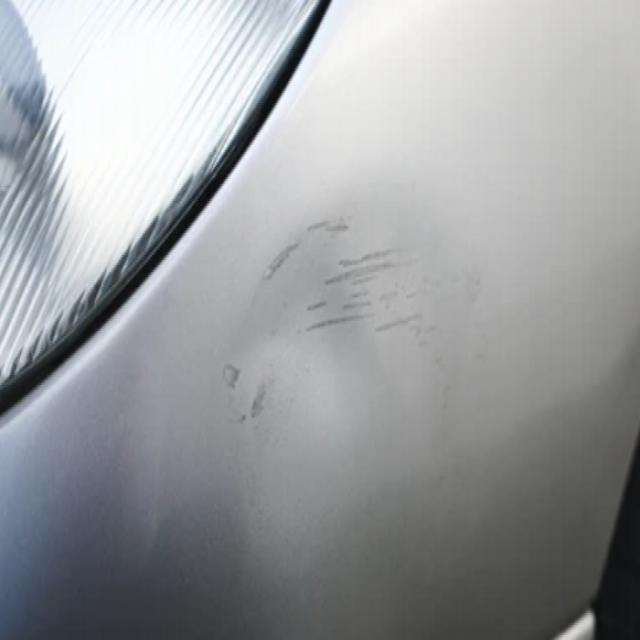dents: (234, 244, 388, 458)
